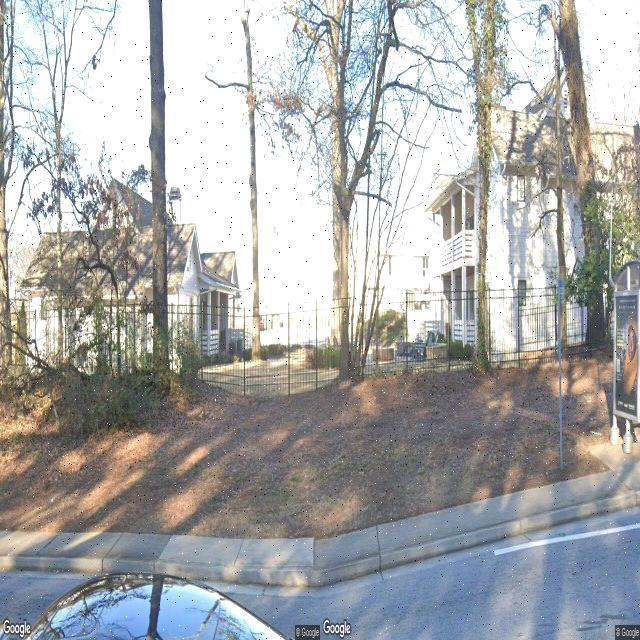shelter: (613, 258, 640, 452)
